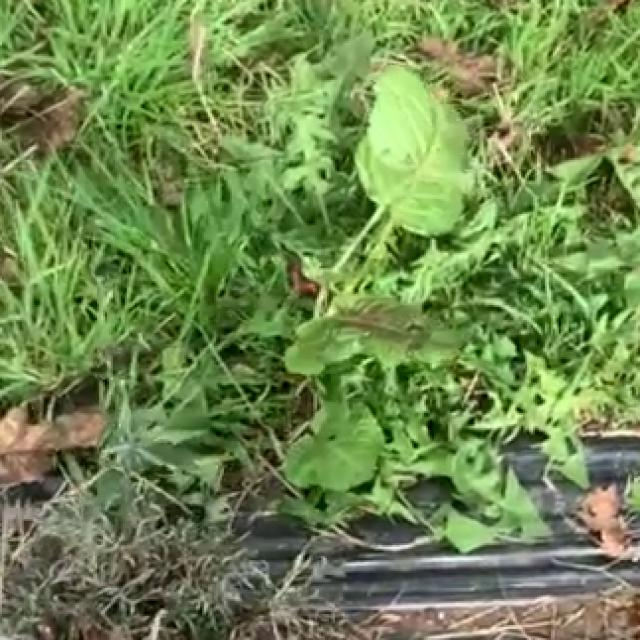organic waste: (250, 48, 549, 540)
